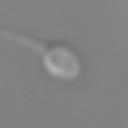normal: (1, 25, 45, 56)
